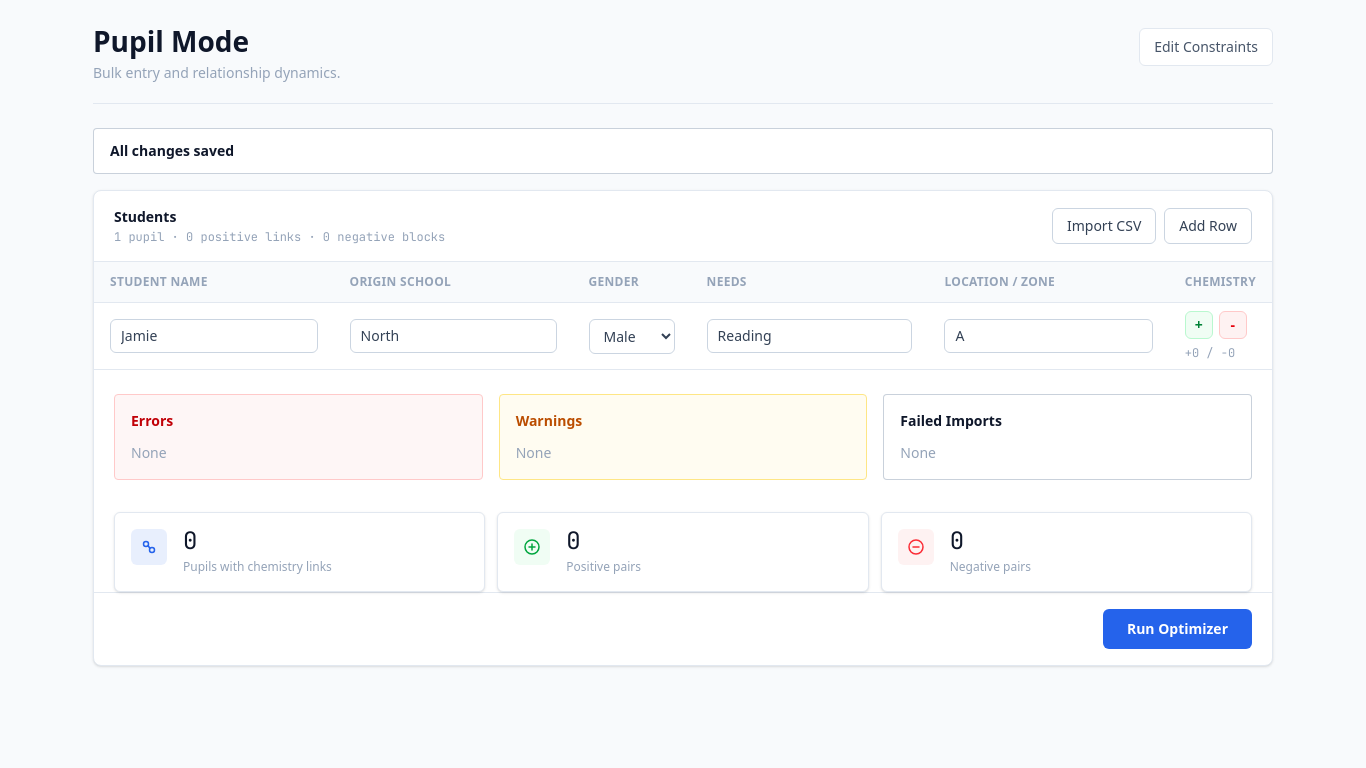
autosave failure on pupil edits keeps Run Optimizer disabled until retry succeeds
The image size is (1366, 768).
Replace the text in the 1st field showing "Jamie" with "Jamie Retry" at (214, 336), box x1=110 y1=319 x2=318 y2=353
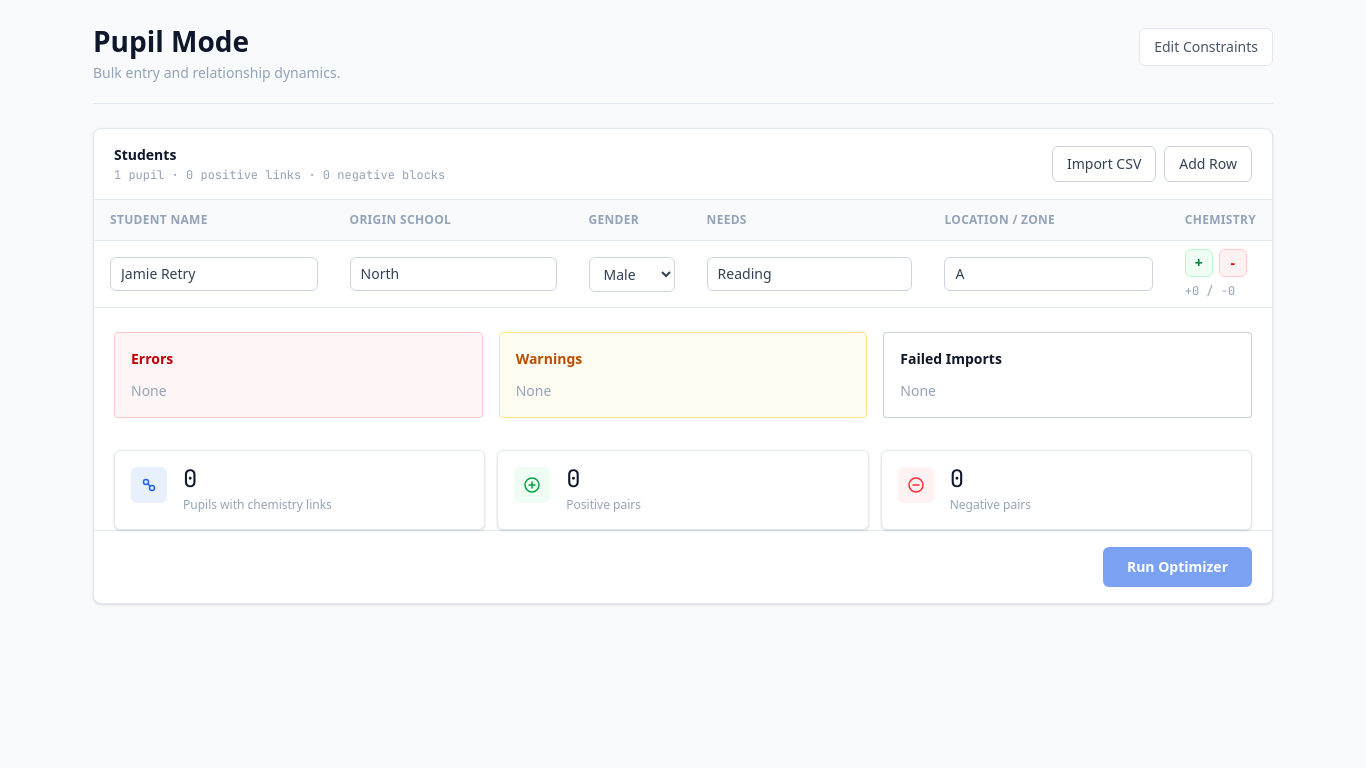
Leave the 1st field showing "Jamie Retry", box x1=110 y1=257 x2=318 y2=291
Wait 2000 ms
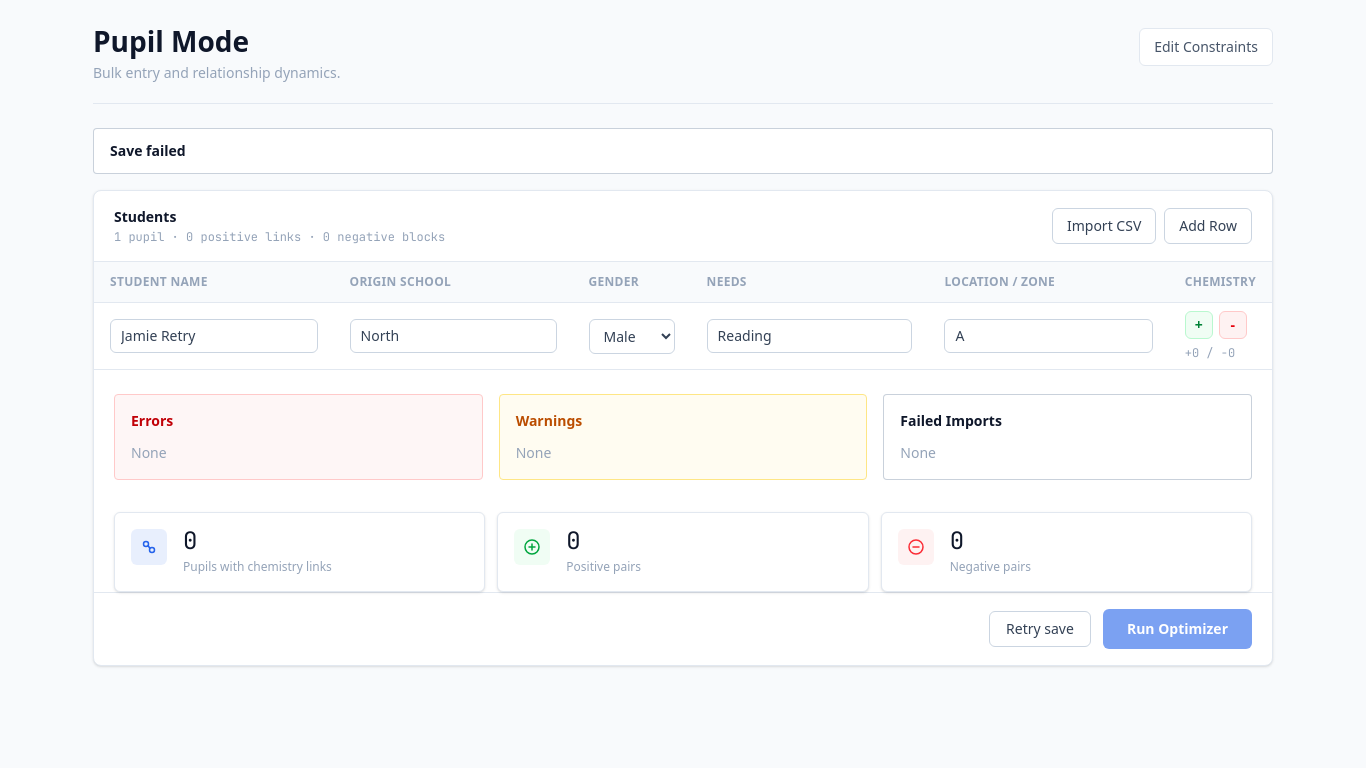
Expected: the button "Run Optimizer" is disabled, x1=1103 y1=609 x2=1252 y2=649
Expected: the text "Save failed" is shown, x1=93 y1=128 x2=1273 y2=174
Expected: the button "Retry save" is shown
Click the button "Retry save" at (1040, 629), box x1=989 y1=611 x2=1091 y2=647
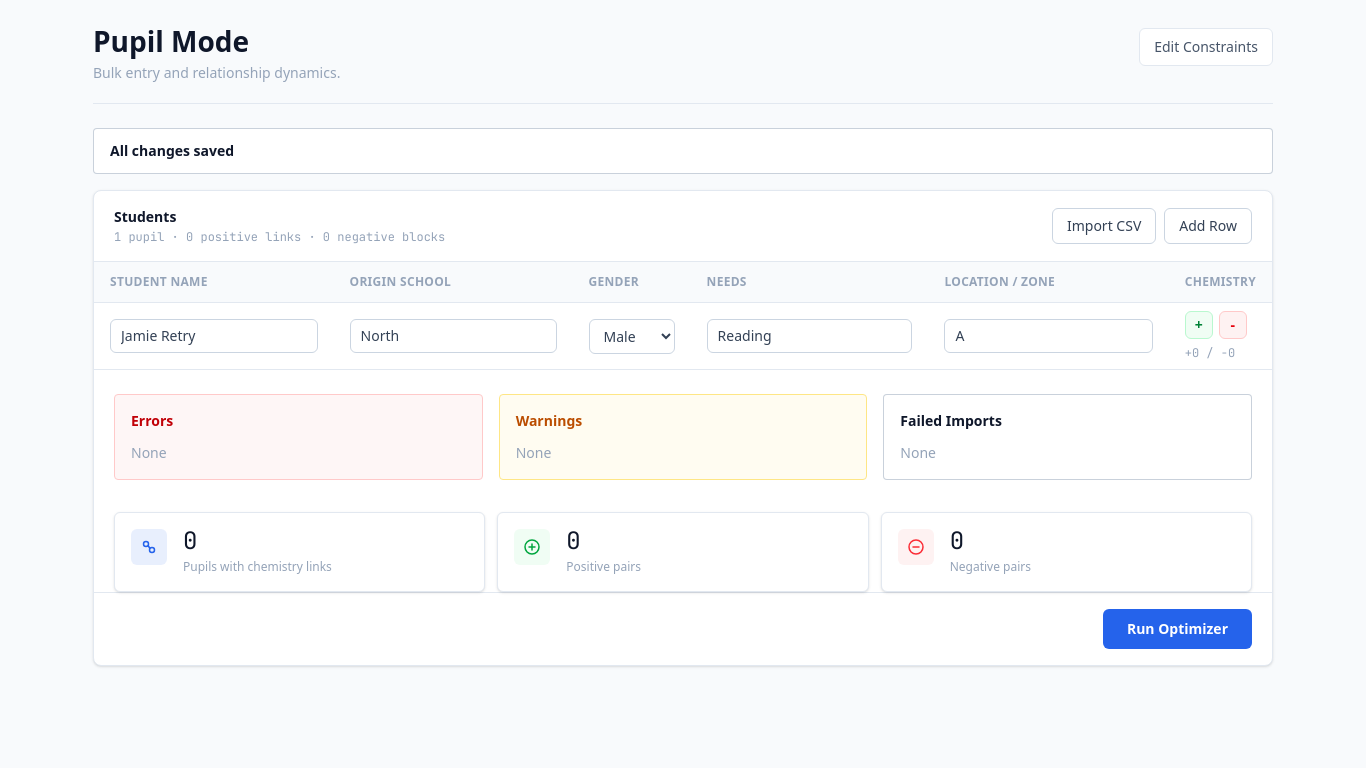
Expected: the text "All changes saved" is shown, x1=93 y1=128 x2=1273 y2=174
Expected: the button "Run Optimizer" is enabled, x1=1103 y1=609 x2=1252 y2=649
